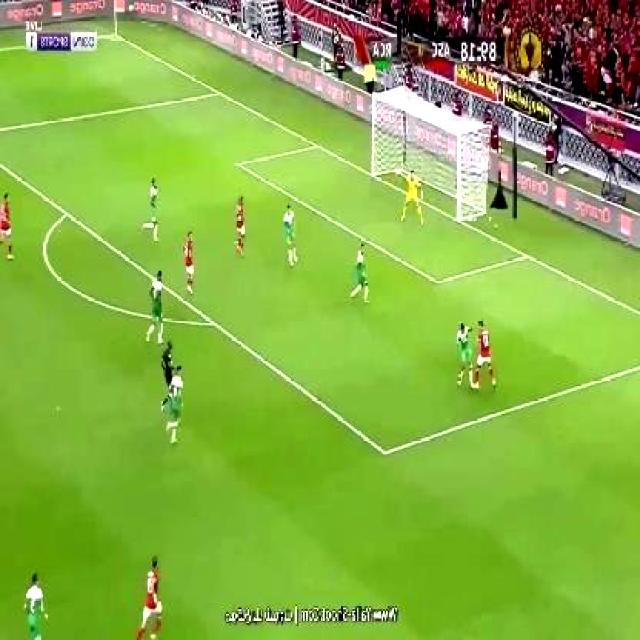bigarea_bottom_inner: (377, 439, 394, 466)
bigarea_top_outter: (216, 85, 227, 100)
bottom_arc_area_intersection: (208, 314, 220, 331)
corner: (106, 28, 123, 40)
smallarea_bottom_inner: (431, 268, 446, 294)
smallarea_bottom_outter: (520, 246, 534, 265)
smallarea_top_inner: (233, 157, 244, 171)
smallarea_top_outter: (311, 137, 323, 152)
top_arc_area_intersection: (62, 205, 72, 220)
